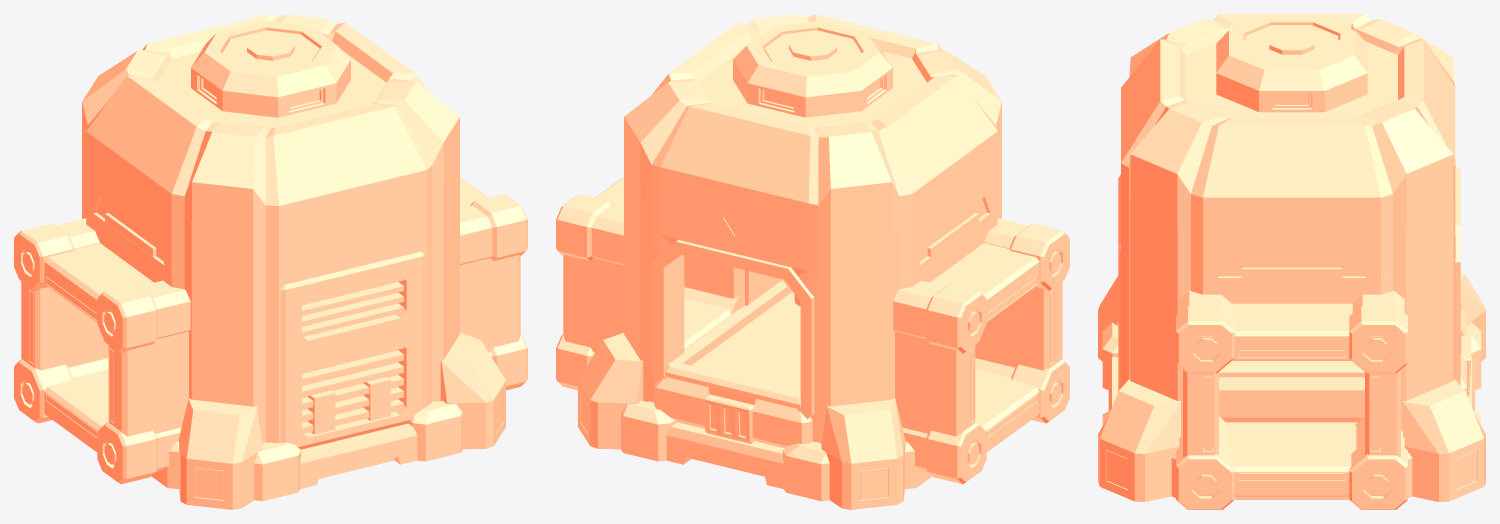
Rendered from constructor.glb.
The picture shows the model from 3 angles, left to right: view 1: azimuth 30°, elevation 25°; view 2: azimuth 150°, elevation 25°; view 3: azimuth 270°, elevation 25°; orthographic projection. The views are drawn at different scales.
Visible parts, largest first — view 1: Body, Base, Port, Head, Port.001, Light; view 2: Body, Port, Plate, Base, Head, Port.001, Light; view 3: Body, Port.001, Base, Head, Plate, Light.
Part boxes in pixels (x1,y1,x2,y2): Body: (82,14,459,478); Base: (151,251,505,509); Port: (14,208,190,484); Head: (157,21,386,128); Port.001: (460,177,527,390); Light: (29,79,503,500); Body: (624,14,1001,444); Port: (893,208,1069,484); Plate: (652,240,814,448); Base: (578,332,932,509); Head: (697,21,926,128); Port.001: (556,177,744,390); Light: (580,79,1054,500); Body: (1121,14,1455,431); Port.001: (1176,274,1407,509); Base: (1098,174,1485,501); Head: (1186,16,1397,118); Plate: (1219,168,1471,422); Light: (1106,94,1477,489).
Size of the model in its own units: 1.01 by 0.8679 by 0.8031.
